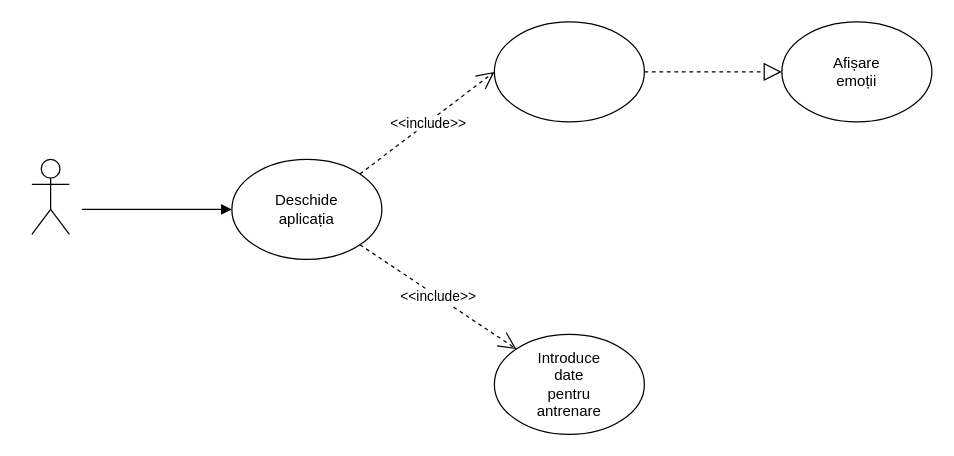
The diagram is 954 pixels wide and 456 high, and some of its shapes have lost their labels. Here are the shapes that lost their labels. From the top down, the box of each, then its label:
(493, 21, 644, 122): Introduce înregistrare
(31, 158, 69, 234): Utilizator
